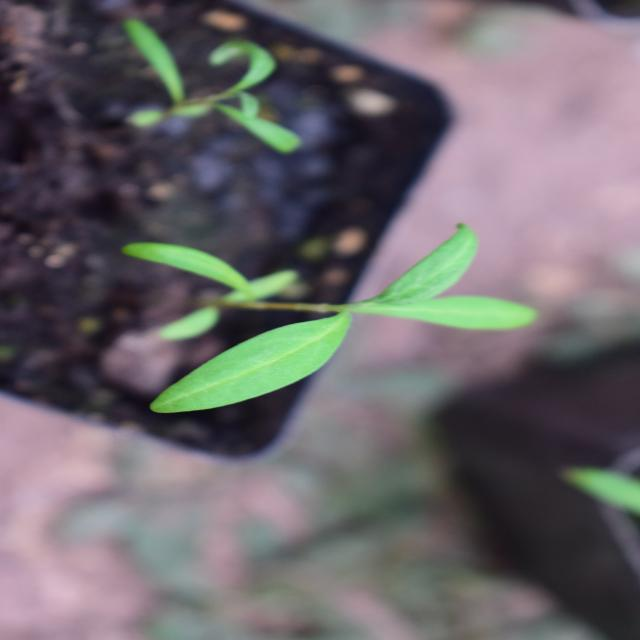white_smart_weed: (162, 90, 438, 533)
